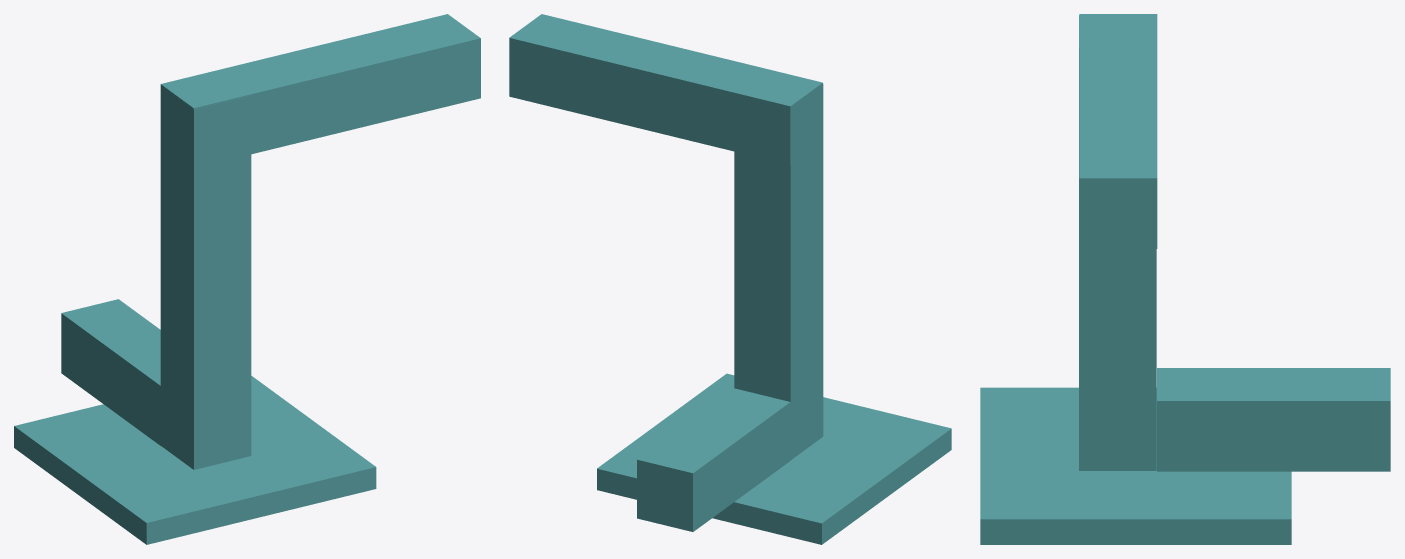
The model's file is Bridge_Triangle_L01.fbx.
The picture shows the model from 3 angles, left to right: view 1: azimuth 30°, elevation 25°; view 2: azimuth 150°, elevation 25°; view 3: azimuth 270°, elevation 25°; orthographic projection. The views are drawn at different scales.
Parts seen in each view (by area): view 1: Bridge_Triangle_L01; view 2: Bridge_Triangle_L01; view 3: Bridge_Triangle_L01.
Part boxes in pixels (x1,y1,x2,y2): Bridge_Triangle_L01: (14,14,480,544); Bridge_Triangle_L01: (509,14,951,544); Bridge_Triangle_L01: (980,14,1390,544).
Bounding box in the file's own units: 6.56 × 6.39 × 5.27.
